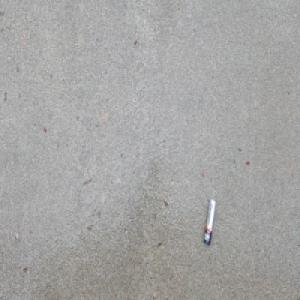Battery: (202, 196, 216, 246)
